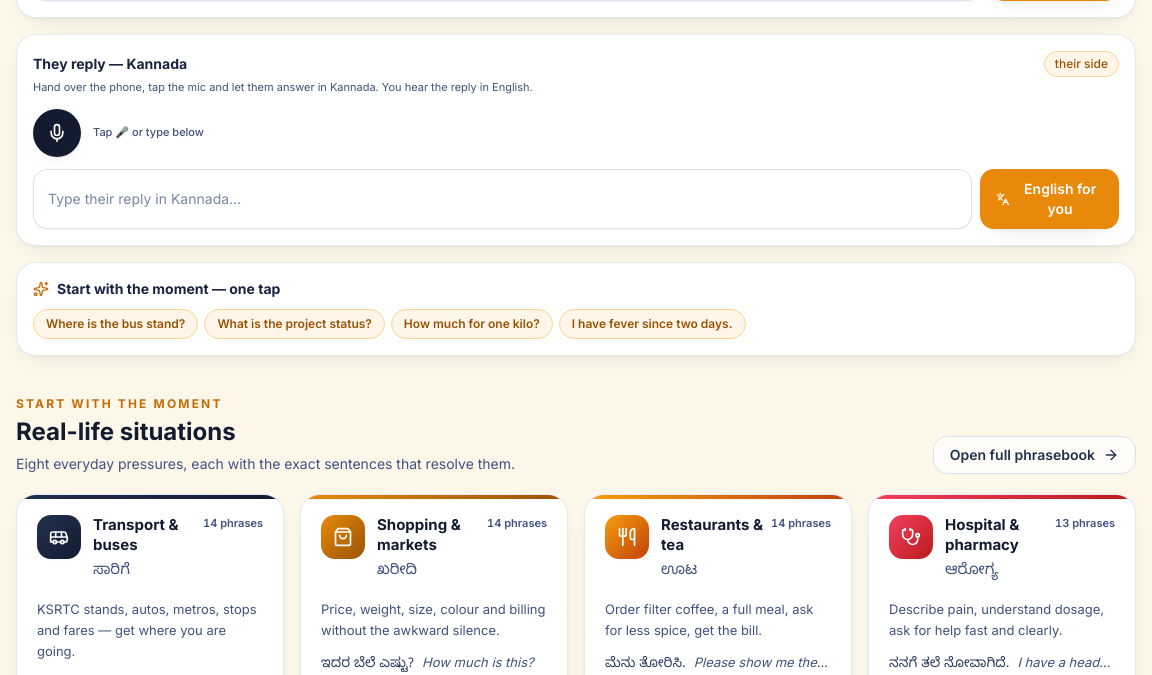
Scenario: HomePage — speak & hear bridge › translates a one-tap sentence from the home page
(page scrolled)
Click the button "What is the project status?" at (295,324), box 204,308 -> 385,338
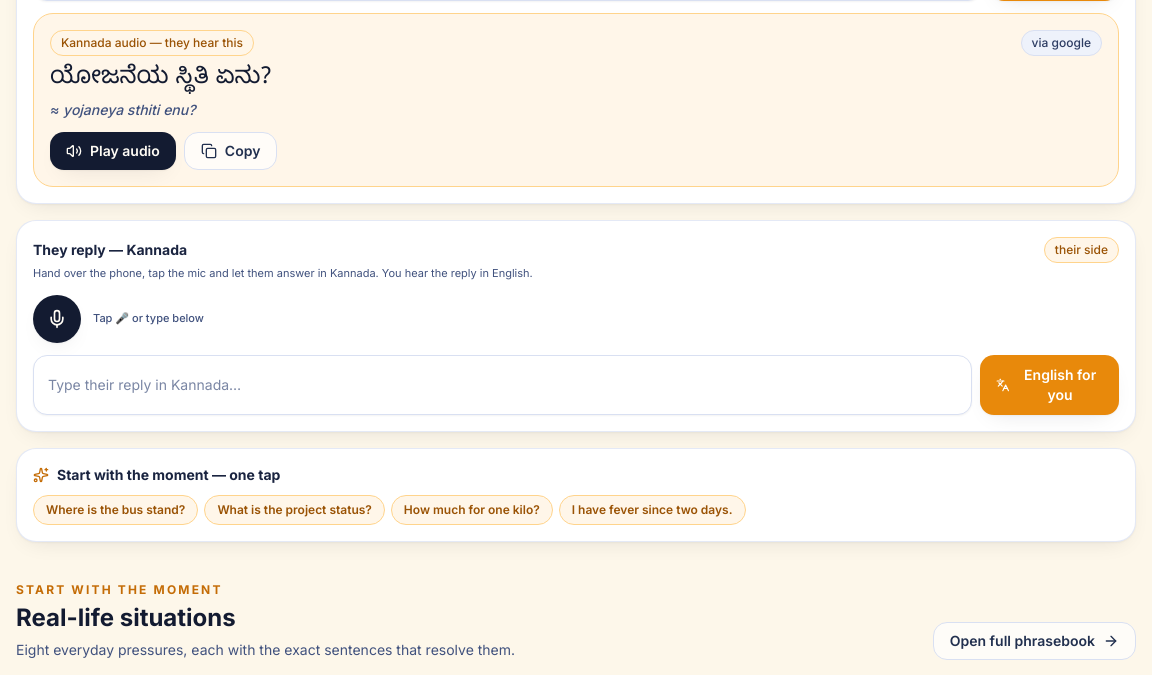
Now the text "ಯೋಜನೆಯ ಸ್ಥಿತಿ ಏನು?" is shown, box 50,64 -> 271,96
Now the text "via google" is shown, box 1021,30 -> 1102,56
